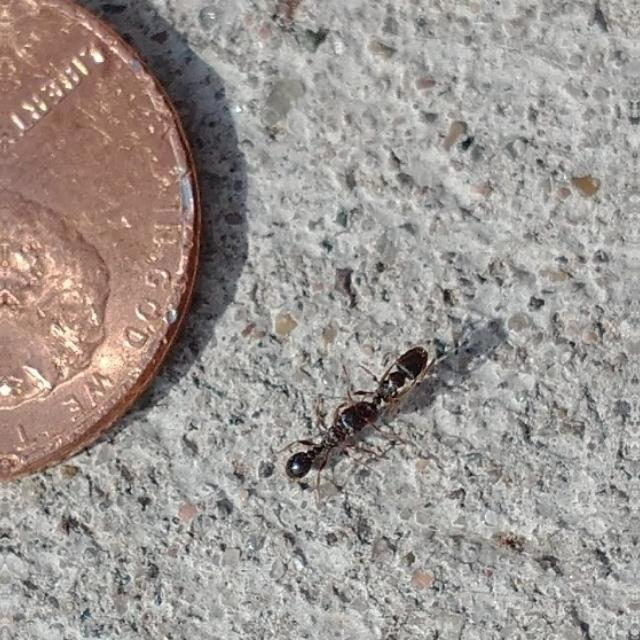Tetramorium: (268, 385, 388, 495), (339, 338, 428, 418)
